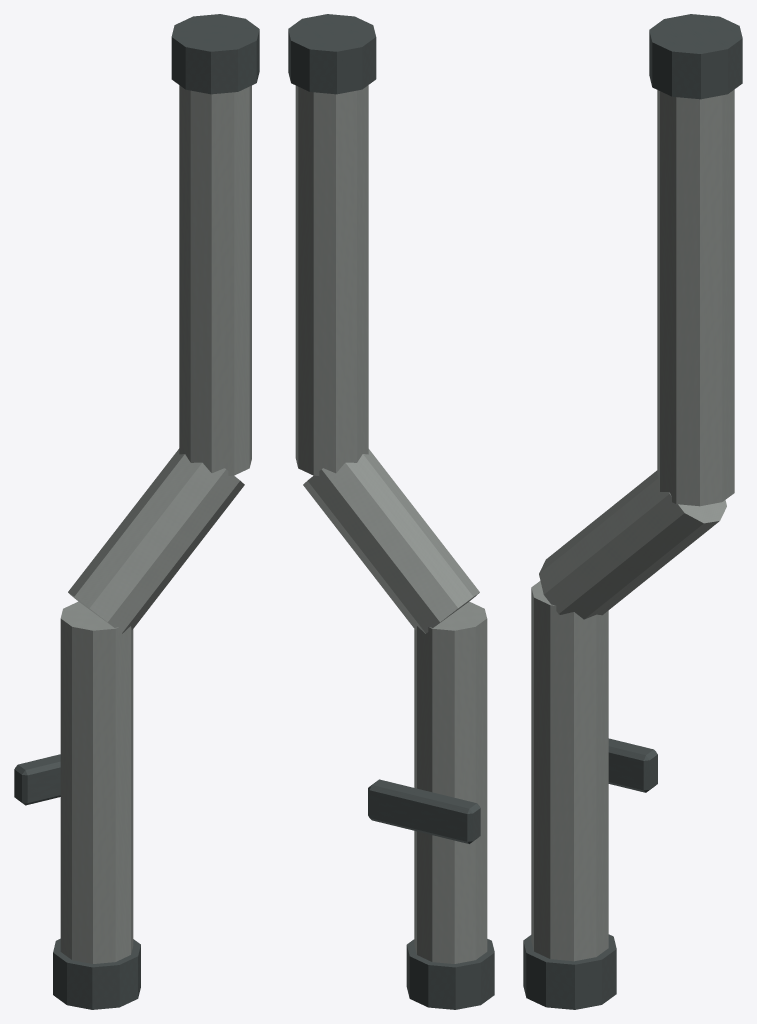
File: D_Drain_Offset_visual.glb
3 renders of one model, left to right at view 1: azimuth 30°, elevation 25°; view 2: azimuth 150°, elevation 25°; view 3: azimuth 330°, elevation 25°, orthographic. The views are drawn at different scales.
Visible parts, largest first — view 1: D_Drain_Offset__VIS; view 2: D_Drain_Offset__VIS; view 3: D_Drain_Offset__VIS.
Part boxes in pixels (left/top/right/bottom): D_Drain_Offset__VIS: left=14, top=14, right=259, bottom=1009; D_Drain_Offset__VIS: left=288, top=14, right=494, bottom=1009; D_Drain_Offset__VIS: left=523, top=14, right=742, bottom=1009.
Size of the model in its own units: 1.23 by 5.24 by 0.56.
Materials: 1 (1 with a texture image).
